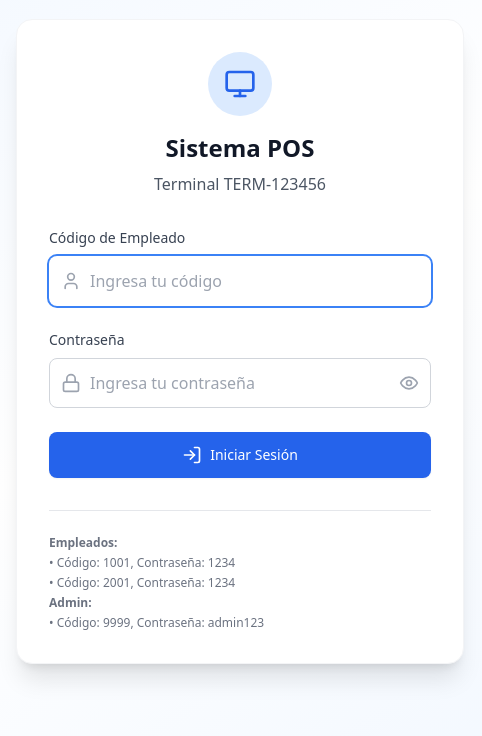
Test case: Login Component › muestra error para credenciales inválidas
Type "9999" into the field labelled "Código de Empleado" at (240, 280), box [49,256,431,306]
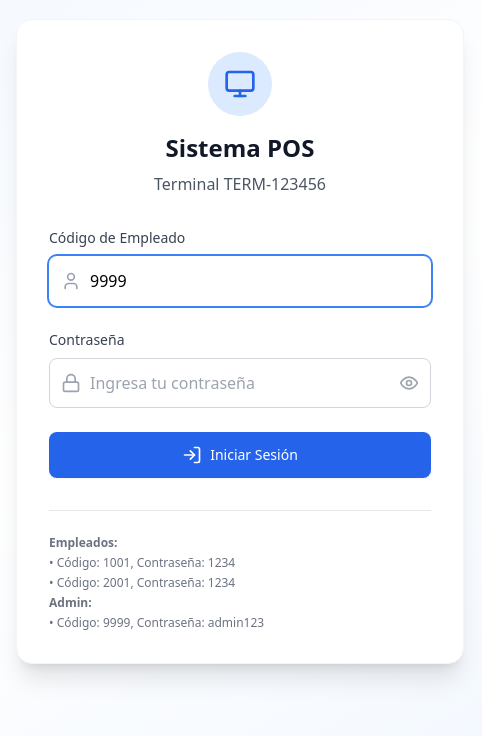
Type "wrong" into the password field labelled "Contraseña" at (240, 382), box [49,358,431,408]
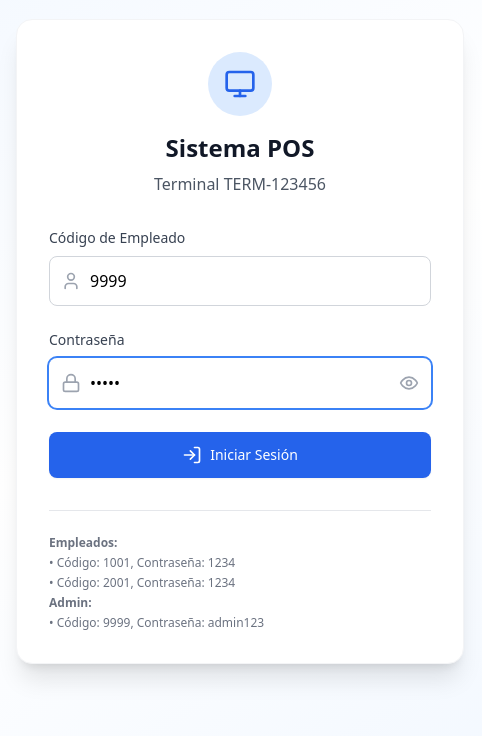
Click the button "Iniciar Sesión" at (240, 454), box [49,432,431,478]
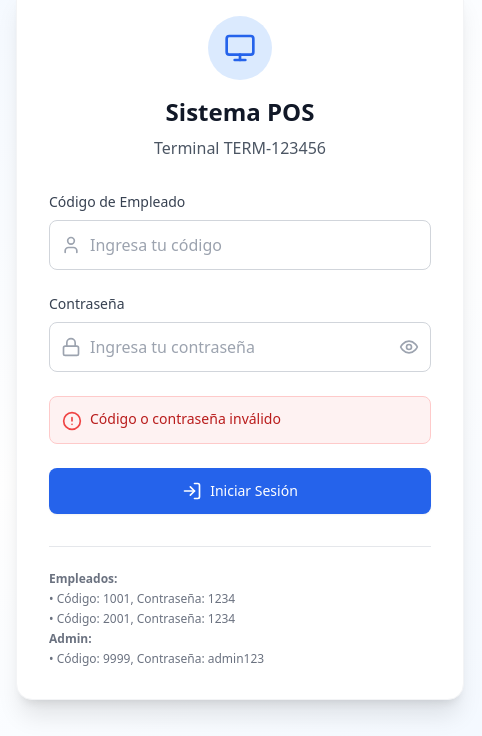
Expected: the text "Código o contraseña inválido" is shown, [90,408,281,428]
